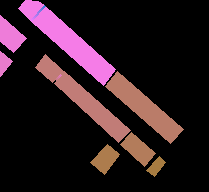parkingspot: (31, 6, 115, 85), (105, 71, 183, 143), (54, 71, 130, 142), (120, 132, 155, 166), (0, 15, 26, 52), (90, 144, 119, 174), (35, 54, 63, 82), (18, 0, 44, 20), (146, 156, 165, 176), (0, 51, 12, 76)
